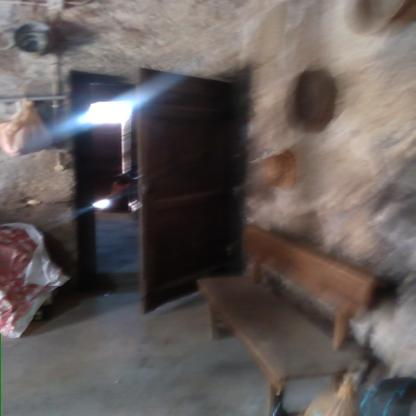semi: (56, 62, 272, 310)
